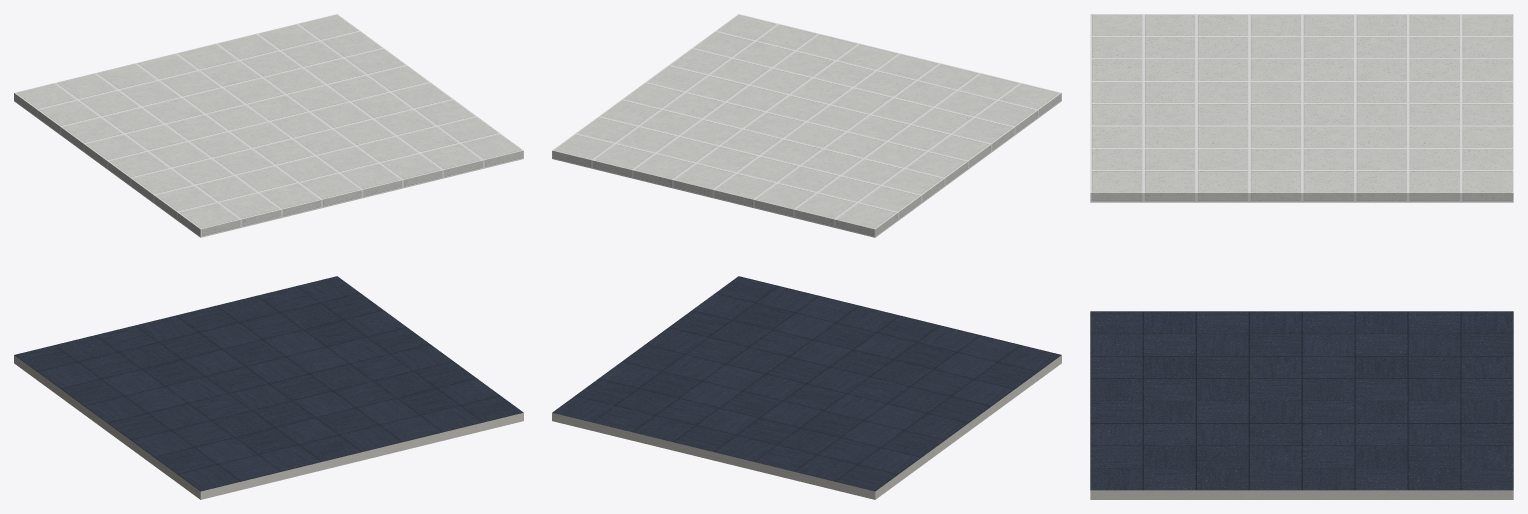
Rendered from Room_Office_Floor_NoLight.glb.
The picture shows the model from 3 angles, left to right: view 1: azimuth 30°, elevation 25°; view 2: azimuth 150°, elevation 25°; view 3: azimuth 270°, elevation 25°; orthographic projection. The views are drawn at different scales.
Parts seen in each view (by area): view 1: Room_Office_Floor_NoLight, Room_Office_Floor_NoLight_Ceiling; view 2: Room_Office_Floor_NoLight, Room_Office_Floor_NoLight_Ceiling; view 3: Room_Office_Floor_NoLight, Room_Office_Floor_NoLight_Ceiling.
Part boxes in pixels (box(x1,y1,x2,y2)): Room_Office_Floor_NoLight: box(14, 276, 523, 499); Room_Office_Floor_NoLight_Ceiling: box(14, 14, 523, 237); Room_Office_Floor_NoLight: box(552, 276, 1061, 499); Room_Office_Floor_NoLight_Ceiling: box(552, 14, 1061, 237); Room_Office_Floor_NoLight: box(1090, 311, 1513, 499); Room_Office_Floor_NoLight_Ceiling: box(1090, 14, 1513, 202).
Size of the model in its own units: 4 by 3.2 by 4.
Materials: 3 (3 with a texture image).
